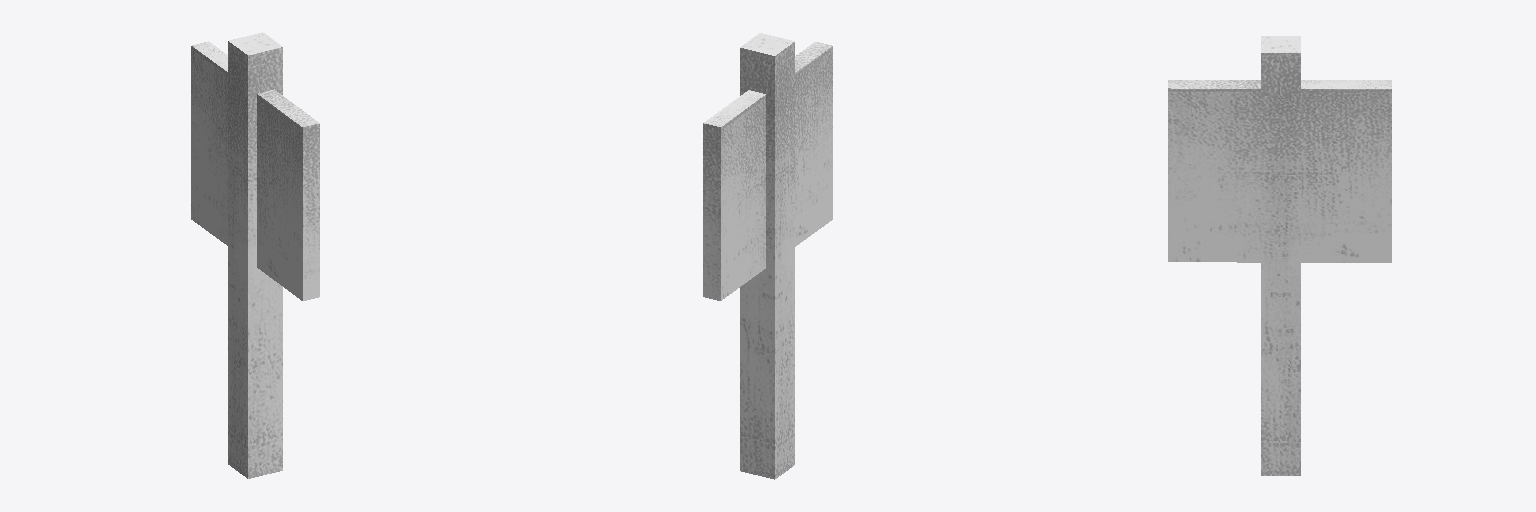
3 renders of one model, left to right at view 1: azimuth 30°, elevation 25°; view 2: azimuth 150°, elevation 25°; view 3: azimuth 270°, elevation 25°, orthographic.
Parts seen in each view (by area): view 1: _5; view 2: _5, _5_1_; view 3: _5, _5_1_.
Boxes of the visible parts, <box> form: _5: <box>191,32,319,478</box>; _5: <box>703,33,832,479</box>; _5_1_: <box>704,90,765,126</box>; _5: <box>1168,36,1391,475</box>; _5_1_: <box>1301,80,1391,88</box>.
Size of the model in its own units: 0.08 by 0.926 by 0.443.
Materials: 3 (2 with a texture image).